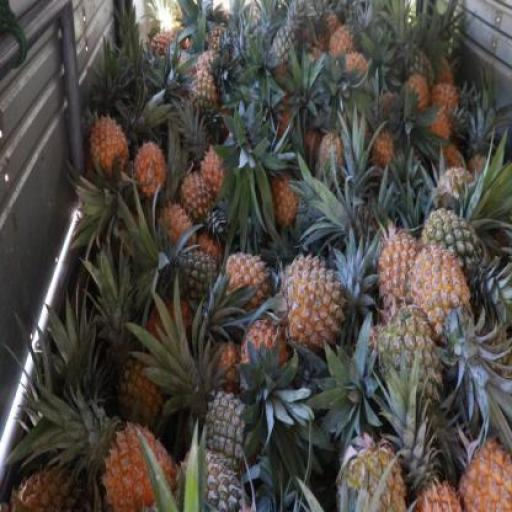------------------------------: (422, 209, 489, 324), (376, 304, 445, 404), (116, 358, 166, 433), (187, 70, 220, 128)
Pineapple - v8 v1: (100, 424, 176, 511), (412, 248, 474, 350), (286, 257, 348, 352), (379, 231, 428, 319), (244, 318, 290, 398), (227, 256, 270, 313), (90, 117, 128, 177), (180, 173, 218, 220), (135, 141, 165, 200)
